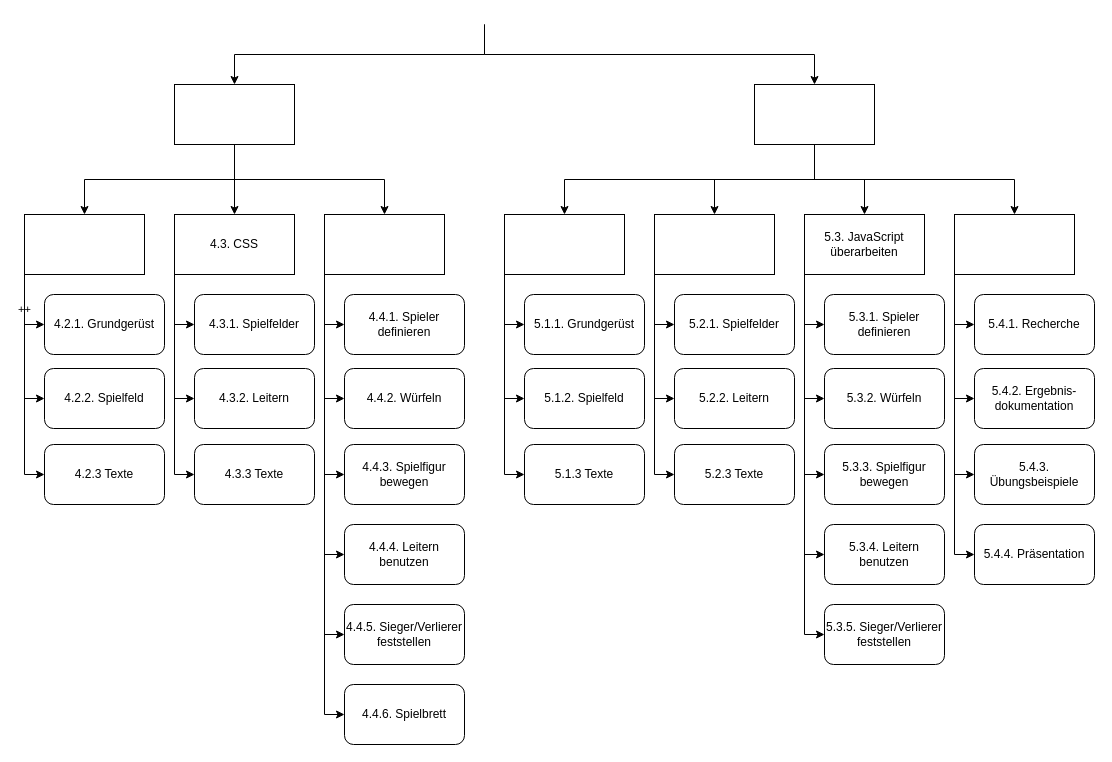
The diagram is 1112 pixels wide and 762 high, and some of its shapes have lost their labels. The shapes that lost their labels are listed below. From the top down, each one's centre as x and y in pixels, then its label:
At point (234, 114): "4. Prototyp".
At point (814, 114): "5. Spiel".
At point (84, 244): "4.2. HTML".
At point (384, 244): "4.4. JavaScript".
At point (564, 244): "5.1. HTML überarbeiten".
At point (714, 244): "5.2. CSS überarbeiten".
At point (1014, 244): "5.4. JavaScript Libraries".
